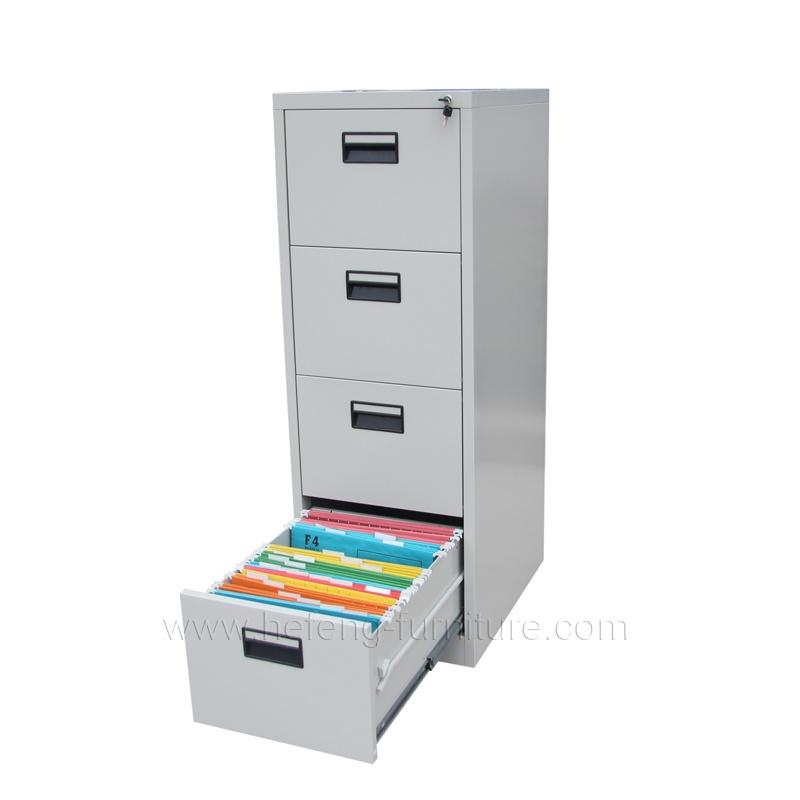Filing Cabinet: (178, 89, 476, 765)
